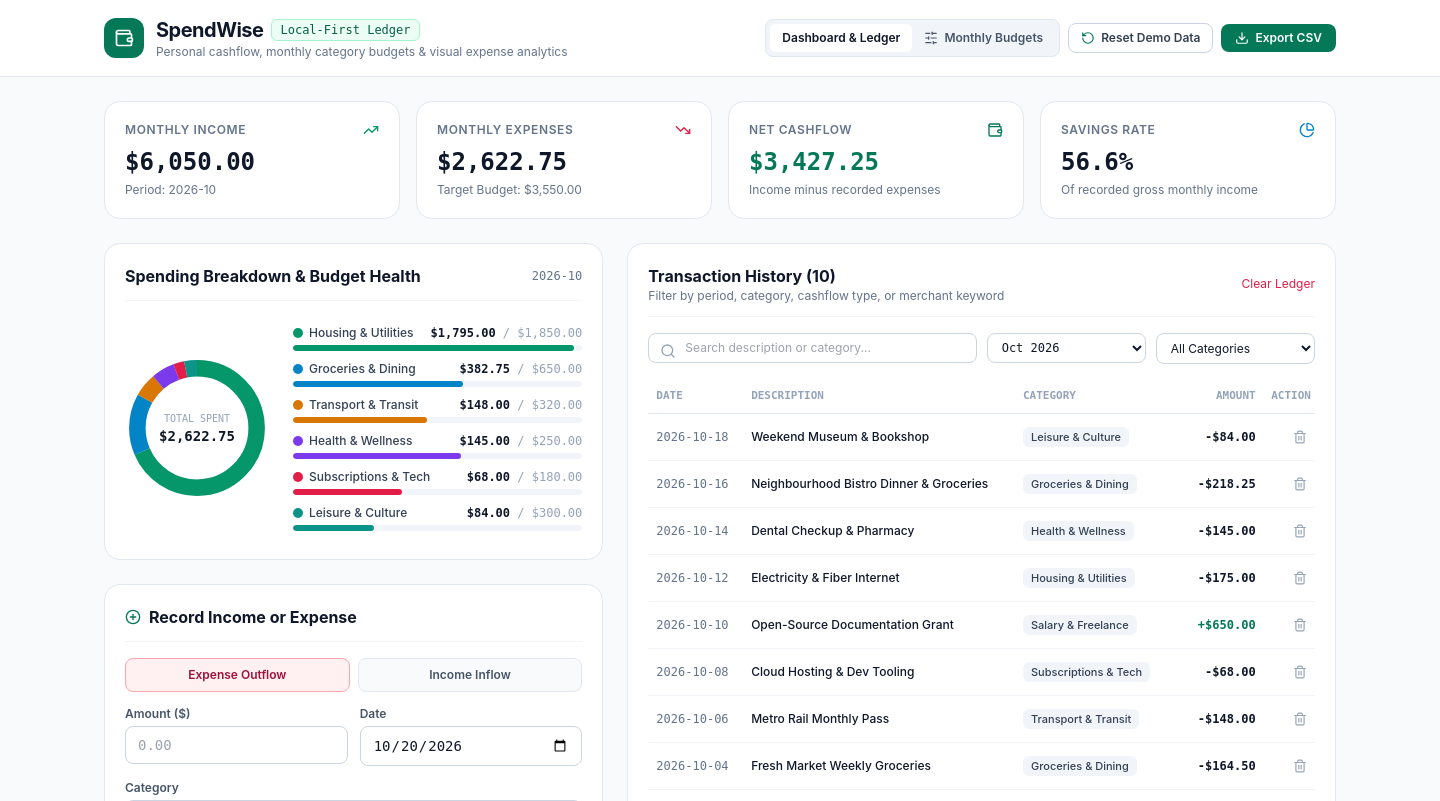
Test case: SpendWise Personal Finance Engine & UI Tests › renders the SpendWise dashboard, dynamically updates month options when adding a new month transaction, and switches to Monthly Budgets
Expected: the heading "SpendWise" is shown, 156,16 -> 264,44
Expected: the heading "Spending Breakdown & Budget Health" is shown, 125,264 -> 421,288
In the number field labelled "Amount ($)": [236, 745] box 125,726 -> 348,764, type "45.00"
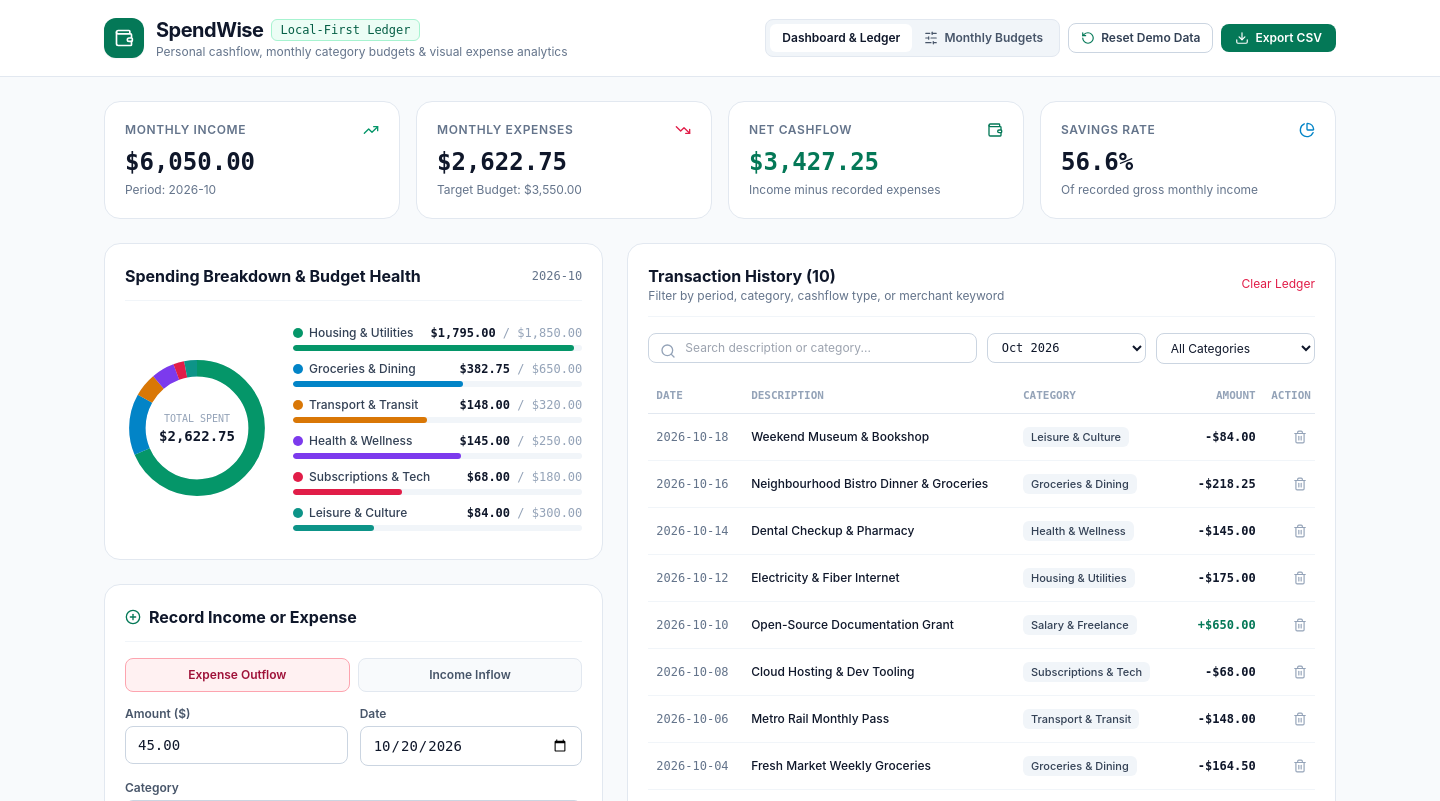
In the date field labelled "Date": [471, 746] box 360,726 -> 582,766, type "2026-11-12"
(page scrolled)
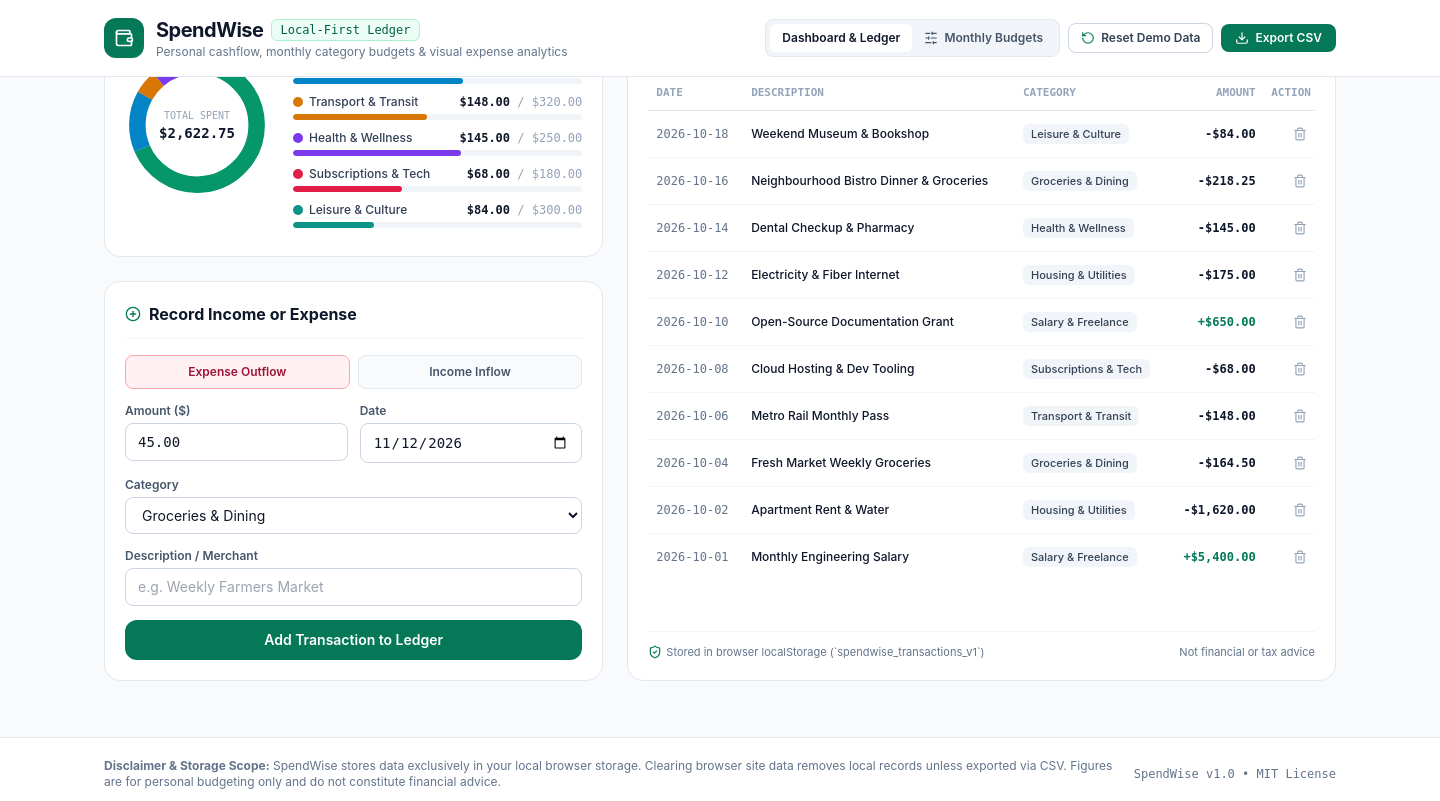
In the field labelled "Description / Merchant": [354, 587] box 125,568 -> 582,606, type "City Bookshop"
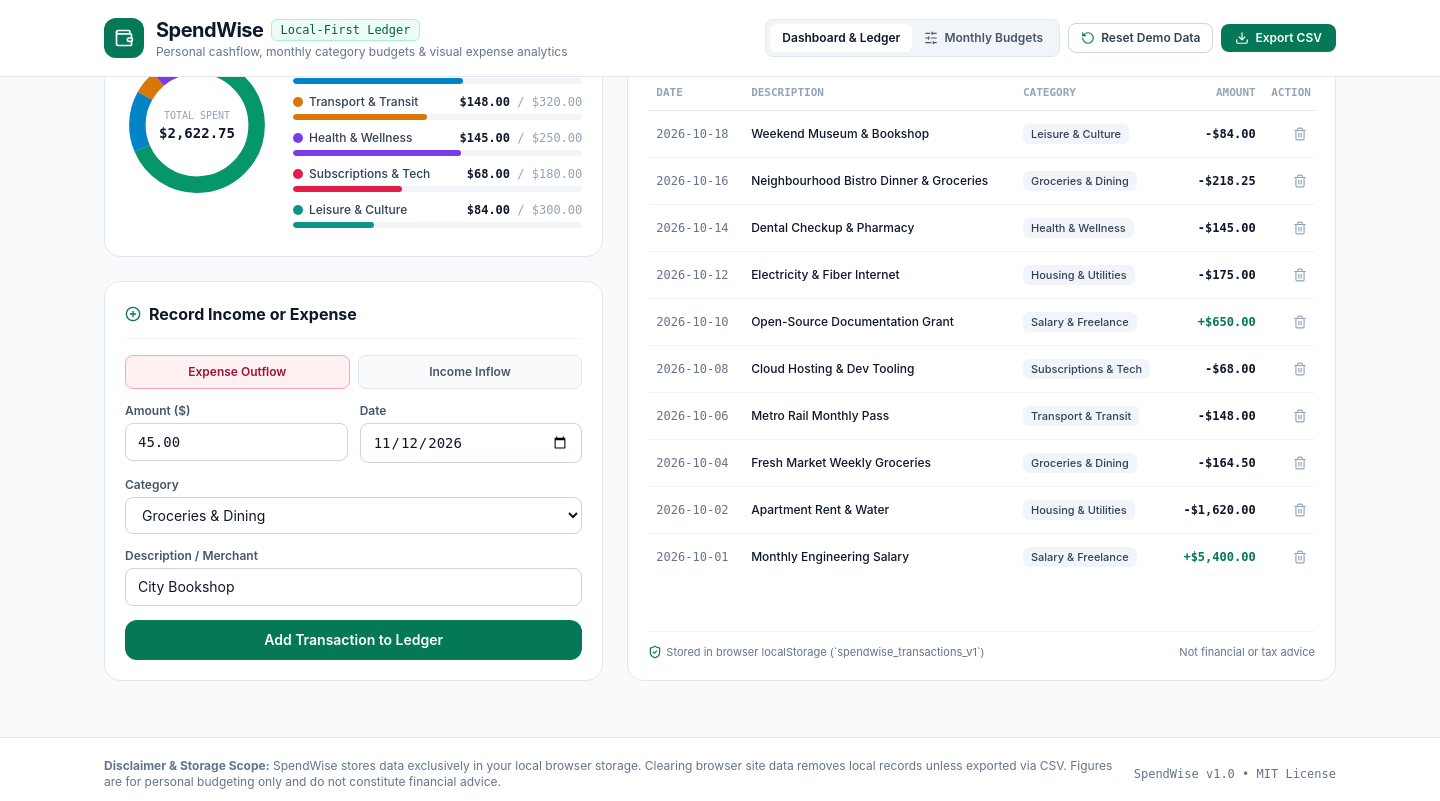
Click the button "Add Transaction to Ledger": [354, 640] box 125,620 -> 582,660
(page scrolled)
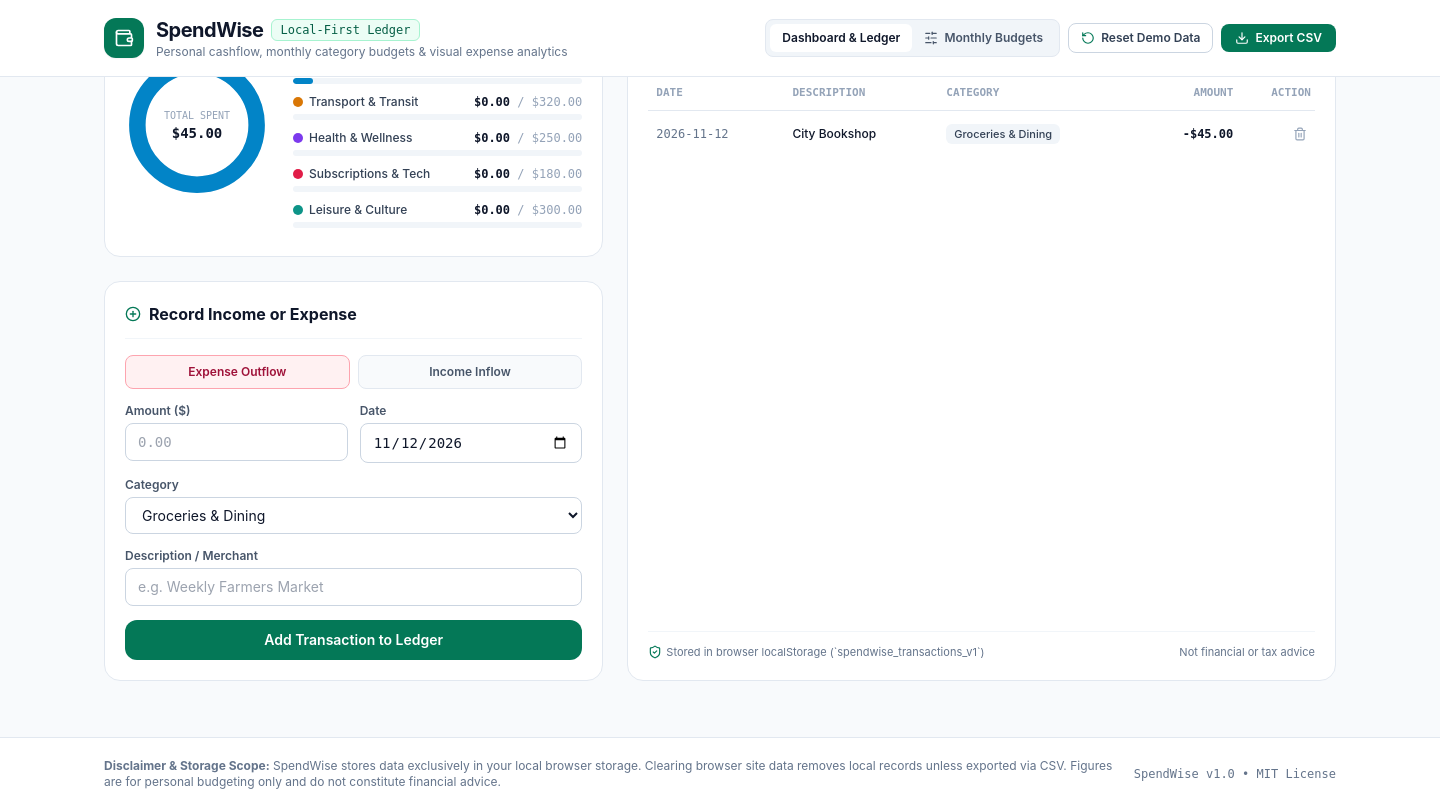
Expected: the dropdown named "Filter by month" shows "Nov 2026", 987,30 -> 1146,60
Expected: the text "City Bookshop" is shown, 784,110 -> 938,156
Click the button "Monthly Budgets": [984, 38] box 912,24 -> 1055,52
(page scrolled)
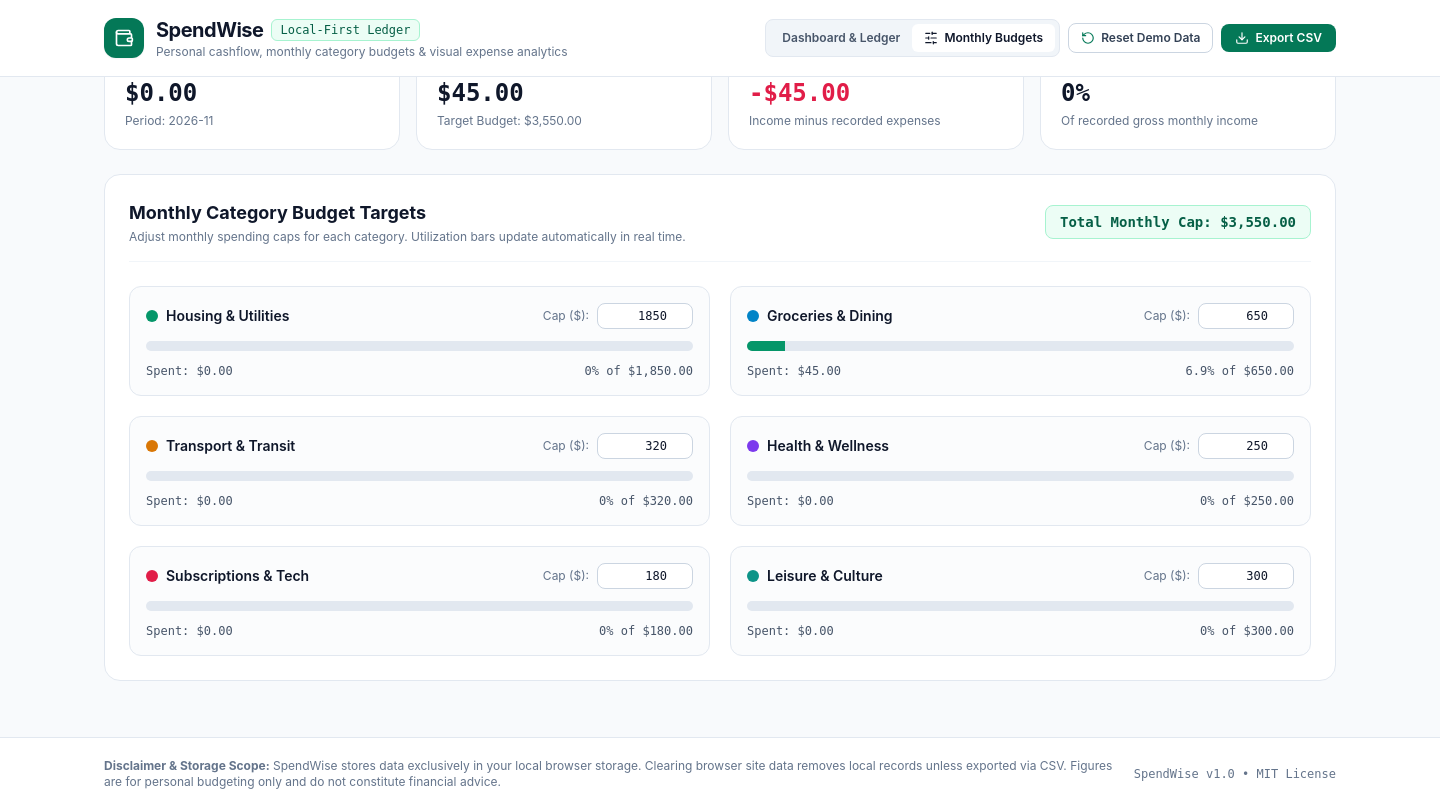
Expected: the heading "Monthly Category Budget Targets" is shown, 129,202 -> 426,223
